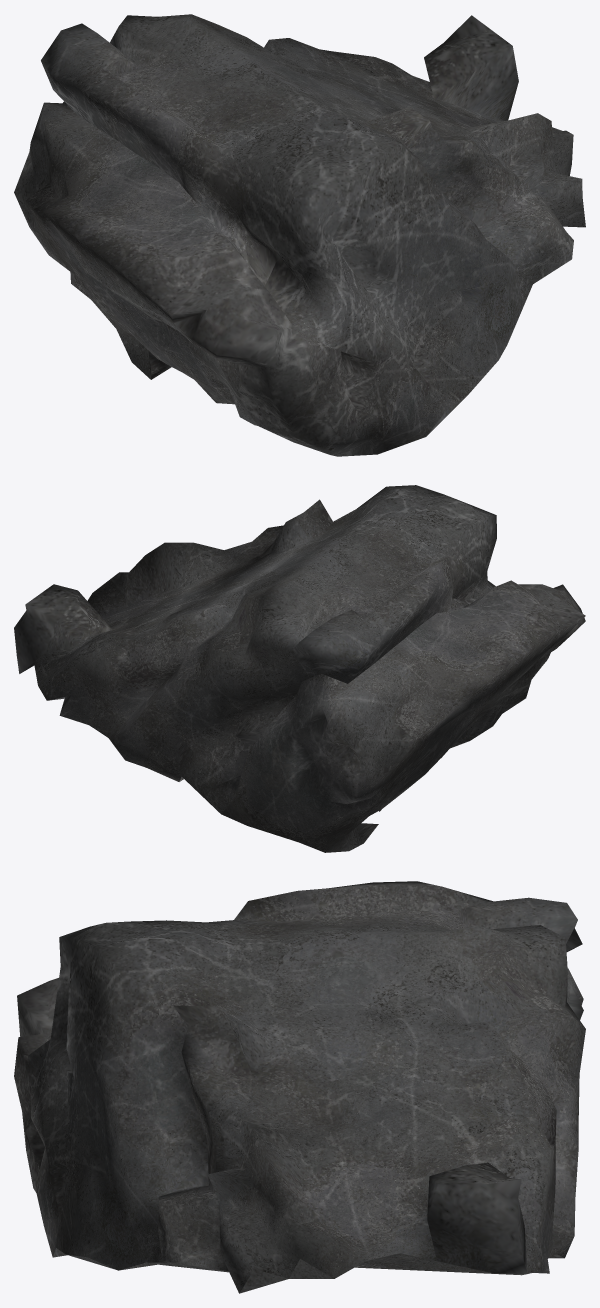
The model's file is Plate_cliff.fbx.
3 renders of one model, top to bottom at view 1: azimuth 30°, elevation 25°; view 2: azimuth 150°, elevation 25°; view 3: azimuth 270°, elevation 25°, orthographic. The views are drawn at different scales.
Parts seen in each view (by area): view 1: Mesh23; view 2: Mesh23; view 3: Mesh23.
Boxes of the visible parts, x1,y1,x2,y2 form: Mesh23: [14, 14, 585, 456]; Mesh23: [14, 485, 585, 852]; Mesh23: [14, 881, 585, 1293].
Size of the model in its own units: 2878 by 1709 by 2518.
